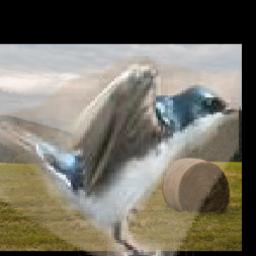Swallow: (0, 56, 239, 256)
